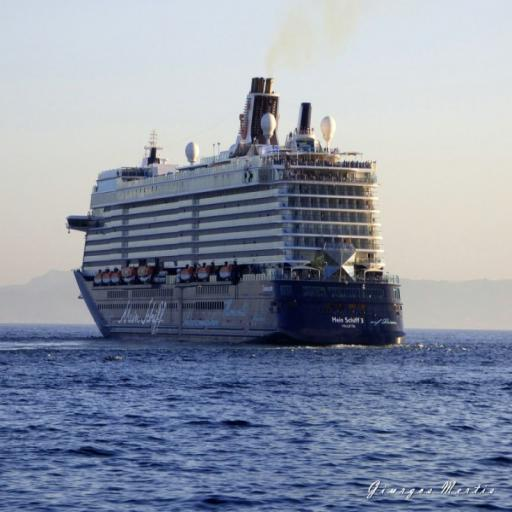cruises: (64, 73, 412, 353)
